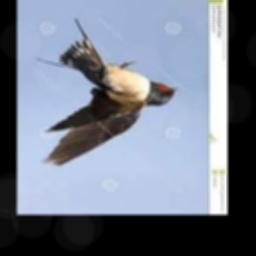Swallow: (35, 20, 178, 166)
